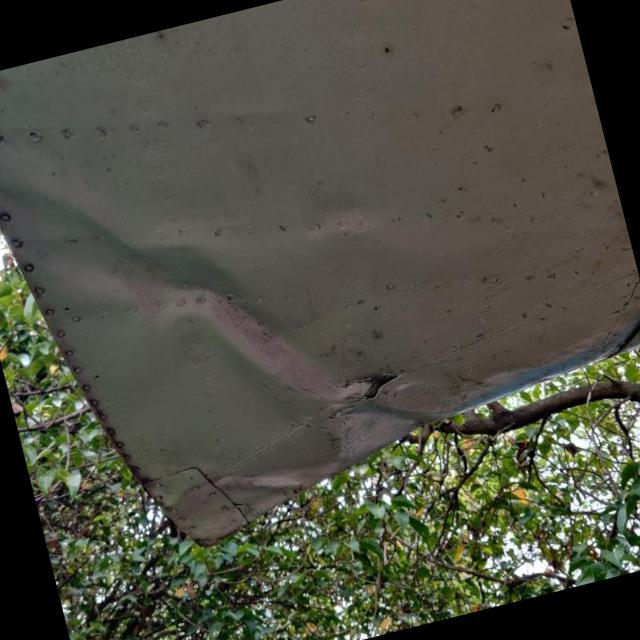Crack: (336, 376, 376, 397)
Dent: (0, 115, 349, 477)
